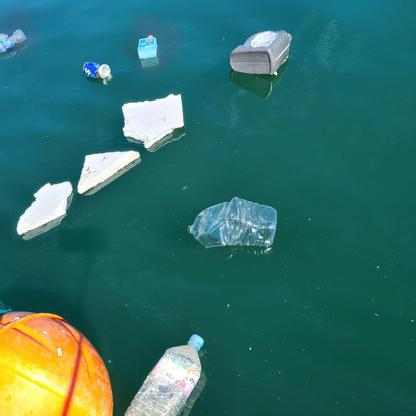can: (81, 60, 110, 76)
foam: (121, 91, 187, 147), (75, 150, 140, 195), (17, 181, 70, 235)
plastic bottle: (122, 331, 204, 416), (184, 198, 276, 249), (2, 28, 25, 53)
